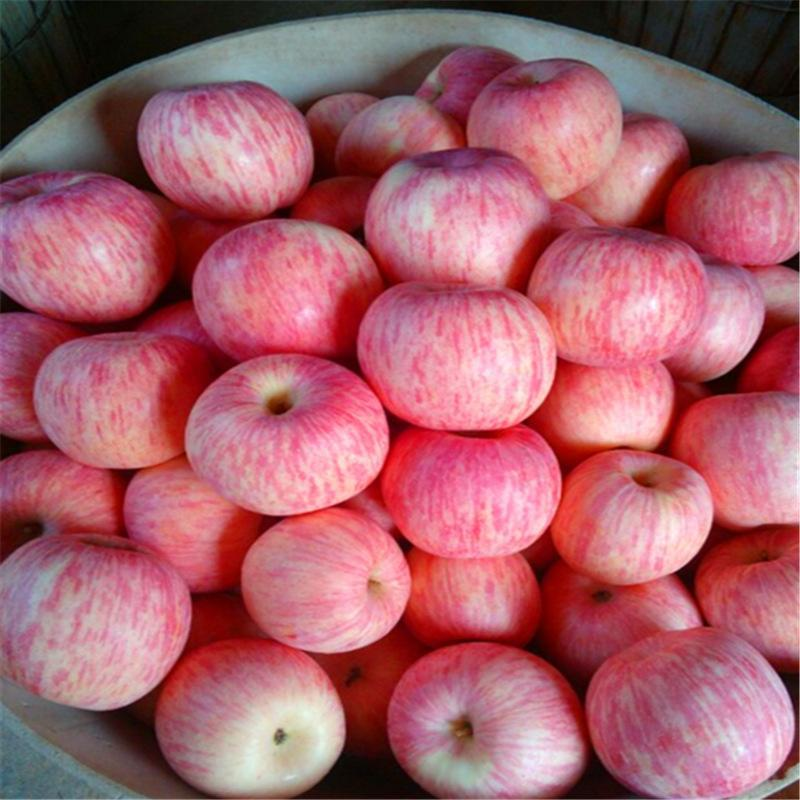apple: (586, 624, 795, 794), (2, 533, 193, 714), (182, 351, 390, 515), (354, 278, 556, 437), (148, 635, 348, 795), (386, 640, 588, 794), (6, 172, 193, 321), (190, 216, 383, 355), (533, 224, 709, 371), (363, 146, 539, 293), (139, 76, 314, 215), (137, 74, 312, 213), (384, 426, 559, 563), (238, 511, 411, 649), (553, 448, 711, 589), (469, 64, 622, 199), (662, 151, 799, 268), (332, 94, 464, 178)
